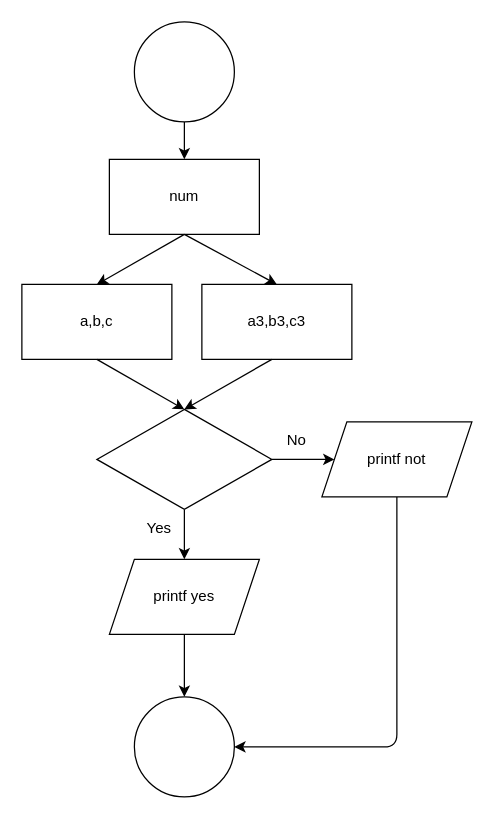
Some shapes in this 494 by 819 pixel diagram are drawn without their labels. Here are the shapes that lost their labels. From the top down, the centre of each, then its label:
At point 183,71: "start".
At point 184,458: "num == (a3+b3+c3)".
At point 183,746: "end".
